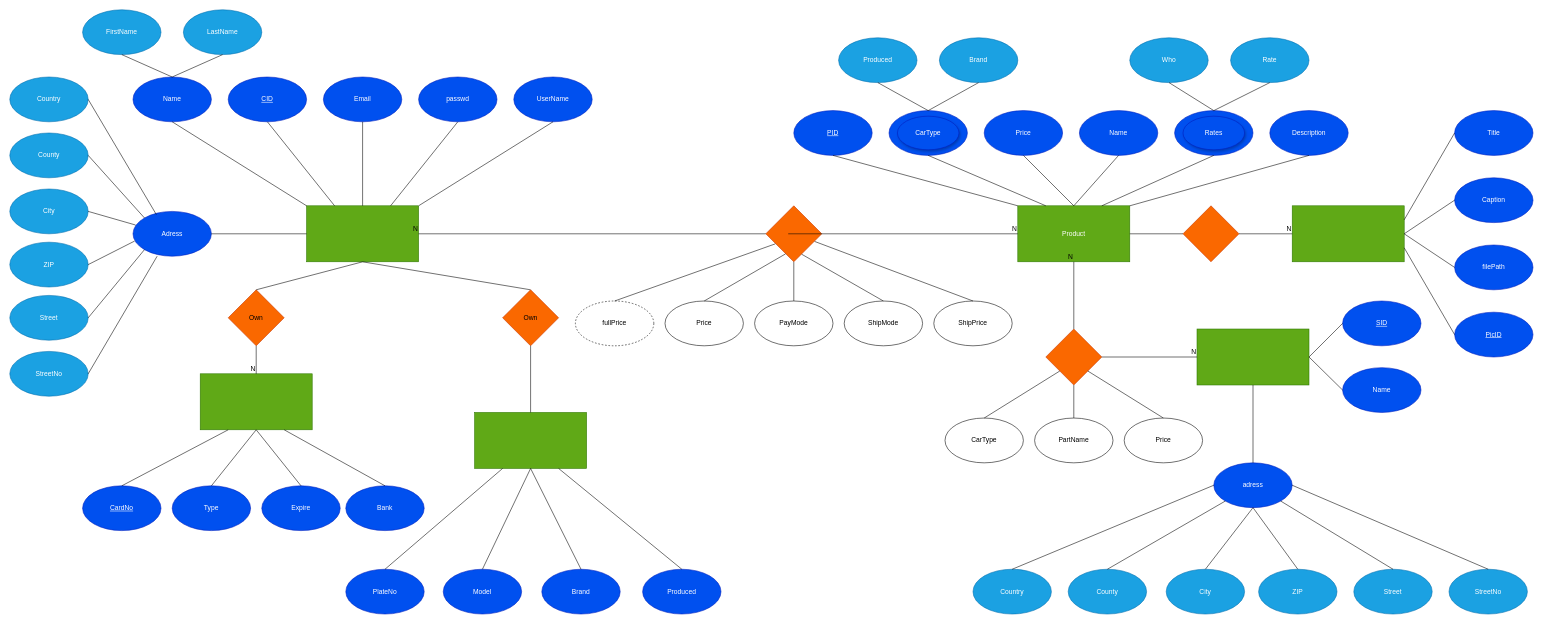
Some shapes in this 1543 by 624 pixel diagram are drawn without their labels. The centre of each missing label's shape, as x and y in pixels:
"Car" goes at (530,440).
"Costumers" goes at (362,233).
"CreditCard" goes at (256,401).
"Has" goes at (1210,233).
"Order" goes at (1073,356).
"Picture" goes at (1348,233).
"Request" goes at (793,233).
"Supplier" goes at (1252,356).
